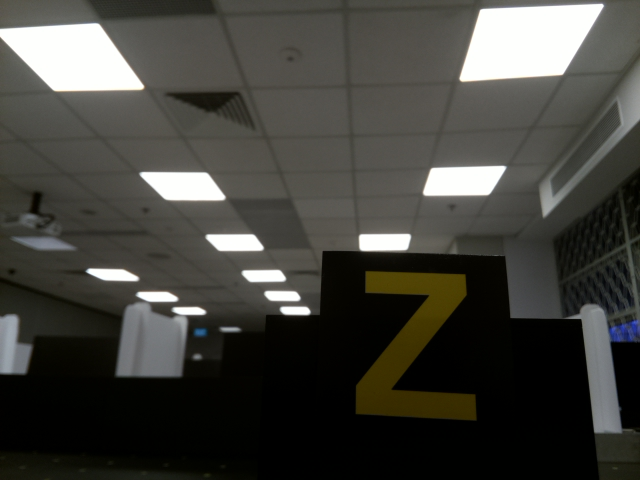z: (353, 266, 483, 430)
